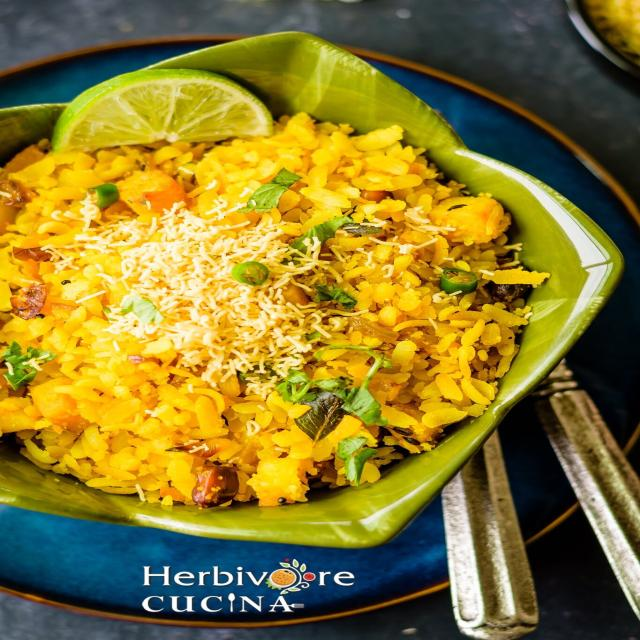POHA: (0, 113, 544, 504)
